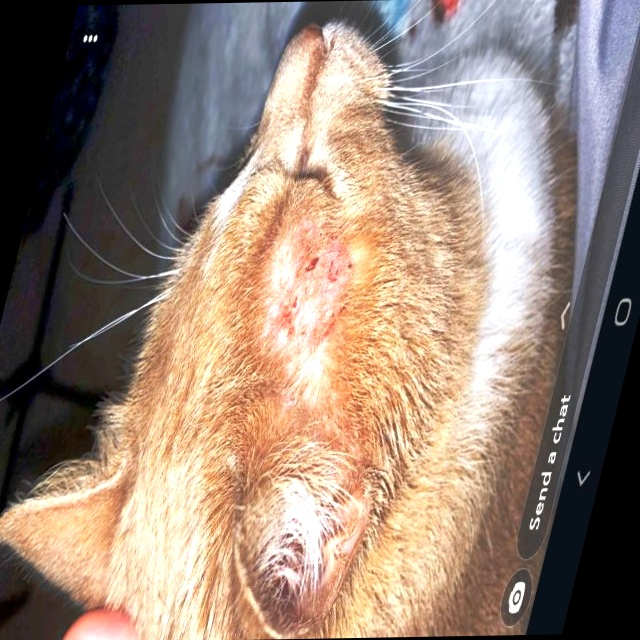ringworm: (253, 242, 358, 399)
